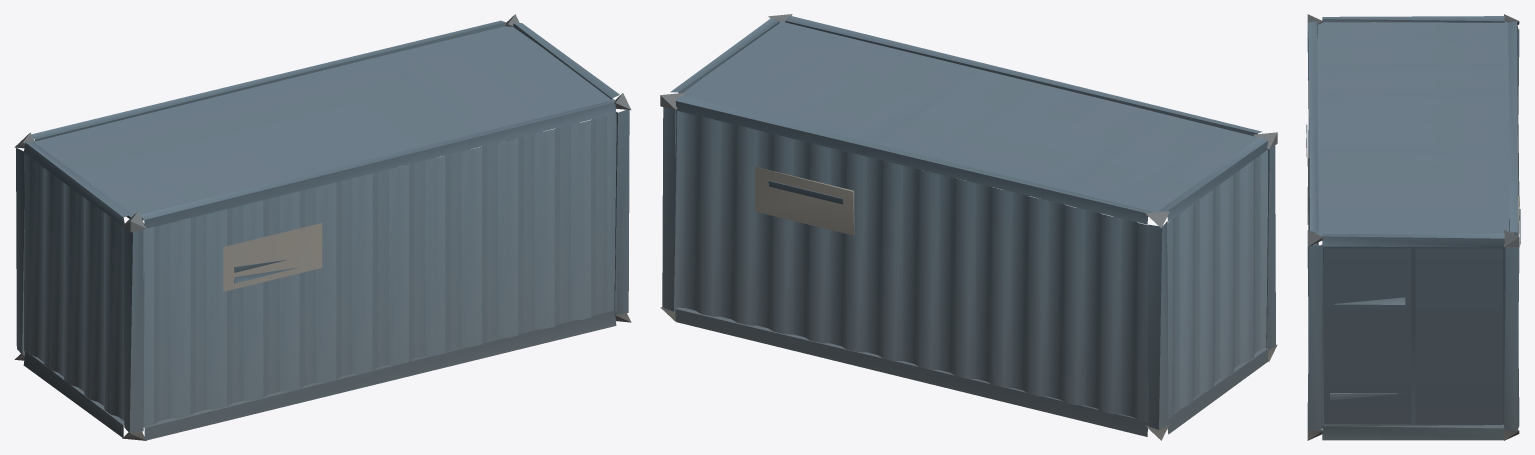
Rendered from box_blue.lod1.glb.
3 views of the same model, side by side, from view 1: azimuth 30°, elevation 25°; view 2: azimuth 150°, elevation 25°; view 3: azimuth 270°, elevation 25° (orthographic). The views are drawn at different scales.
Bounding box in the file's own units: 6.08 × 2.59 × 2.47.
